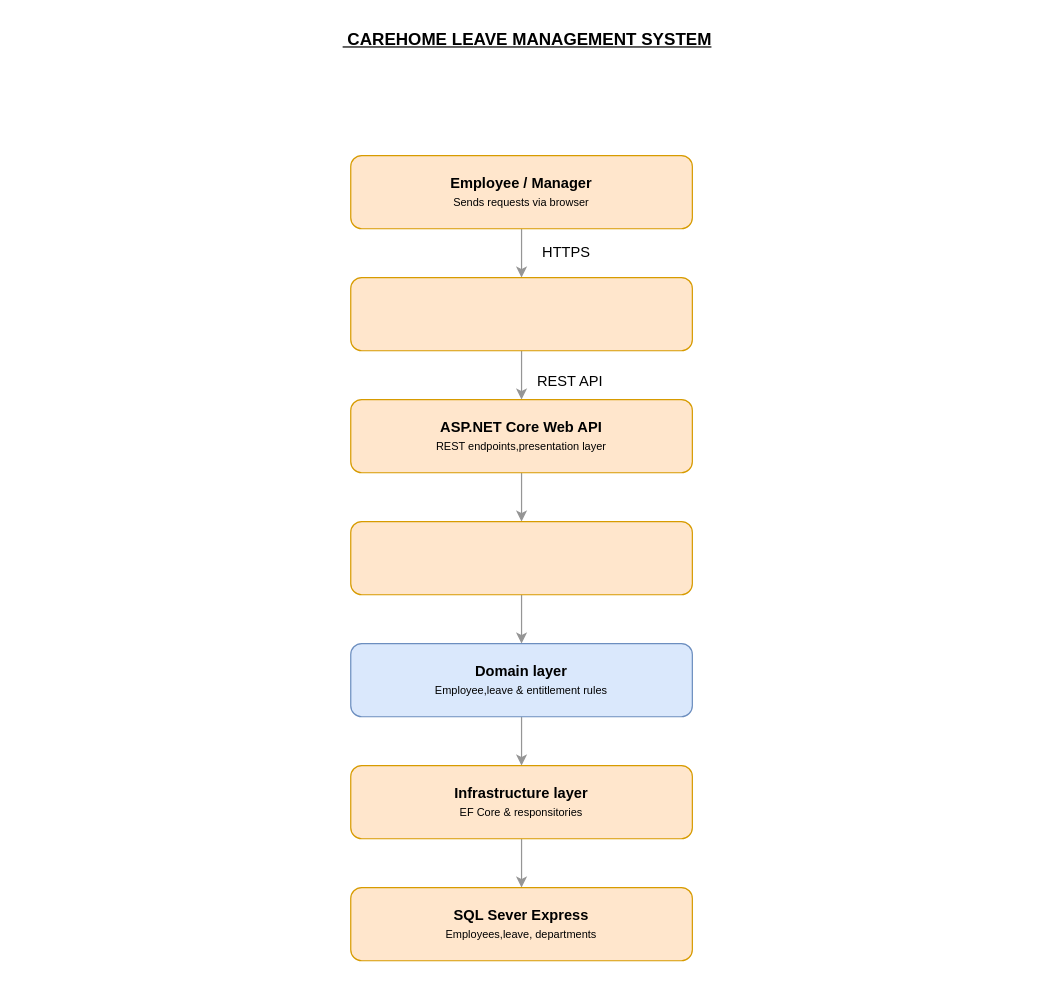
Some shapes in this 1054 by 982 pixel diagram are drawn without their labels. The centre of each missing label's shape, as x and y in pixels:
"Application layer Leave request & approval workflows" goes at [521,557].
"React + TypeScript frontend Leave requests & approval UI" goes at [521,313].
